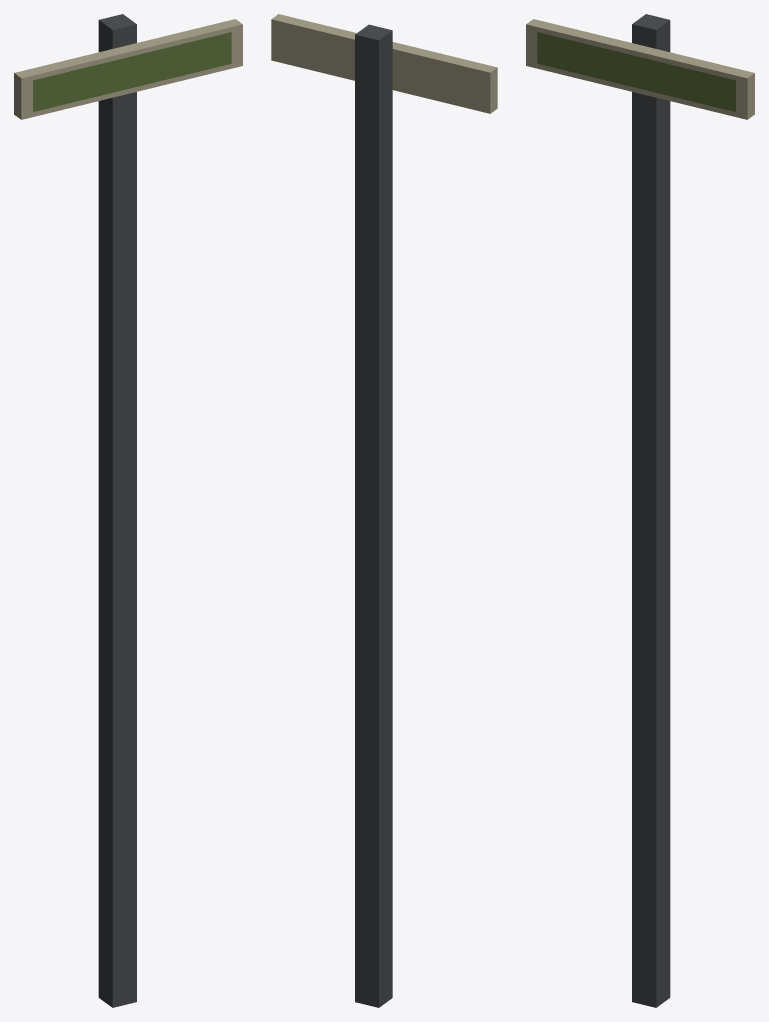
Rendered from PS_StreetSign02.fbx.
3 renders of one model, left to right at view 1: azimuth 30°, elevation 25°; view 2: azimuth 150°, elevation 25°; view 3: azimuth 330°, elevation 25°, orthographic.
Parts seen in each view (by area): view 1: PS_StreetSign02; view 2: PS_StreetSign02; view 3: PS_StreetSign02.
Part boxes in pixels (x1,y1,x2,y2): PS_StreetSign02: (14, 14, 242, 1007); PS_StreetSign02: (271, 14, 497, 1007); PS_StreetSign02: (526, 14, 754, 1007).
Bounding box in the file's own units: 0.4739 × 2 × 0.079.
